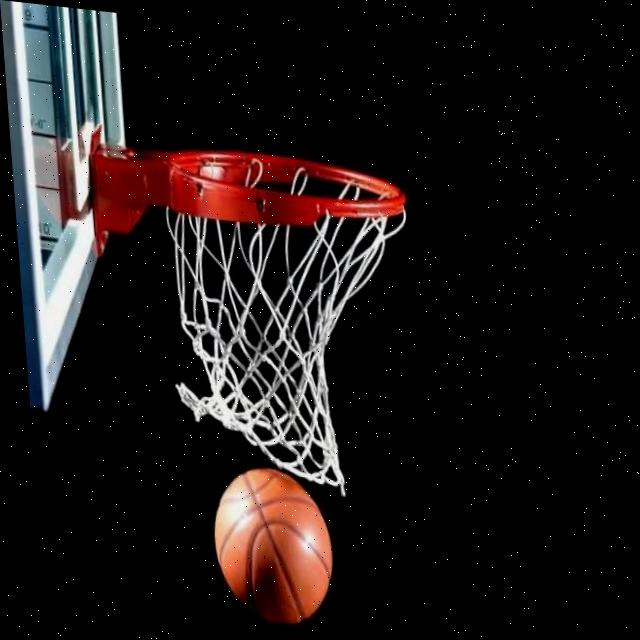Basketball: (209, 461, 338, 630)
